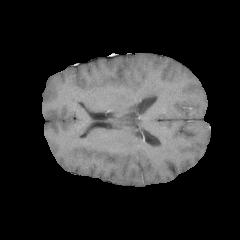glioma: (123, 75, 165, 111)
